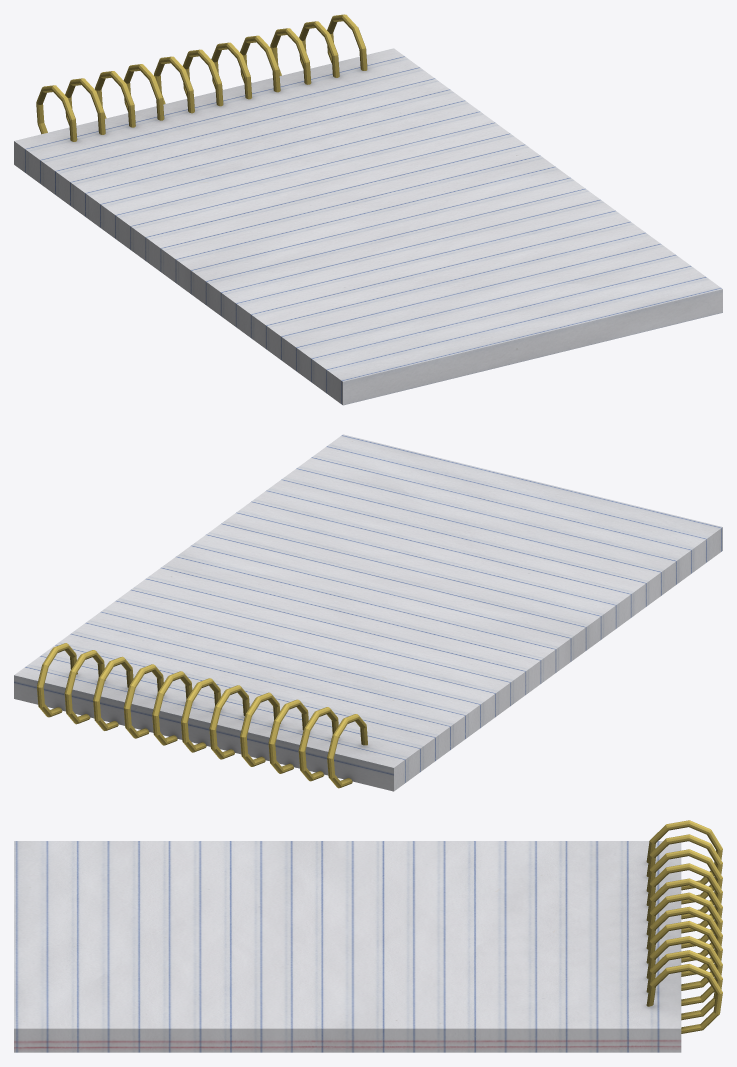
Rendered from Paperpad.fbx.
3 views of the same model, one above another, from view 1: azimuth 30°, elevation 25°; view 2: azimuth 150°, elevation 25°; view 3: azimuth 270°, elevation 25° (orthographic).
Visible parts, largest first — view 1: paper_pad1; view 2: paper_pad1; view 3: paper_pad1.
Part boxes in pixels (box(x1,y1,x2,y2)): paper_pad1: box(14, 14, 722, 405); paper_pad1: box(14, 434, 722, 791); paper_pad1: box(14, 820, 722, 1052).
Size of the model in its own units: 0.2506 by 0.0435 by 0.3994.
Materials: 1 (1 with a texture image).
